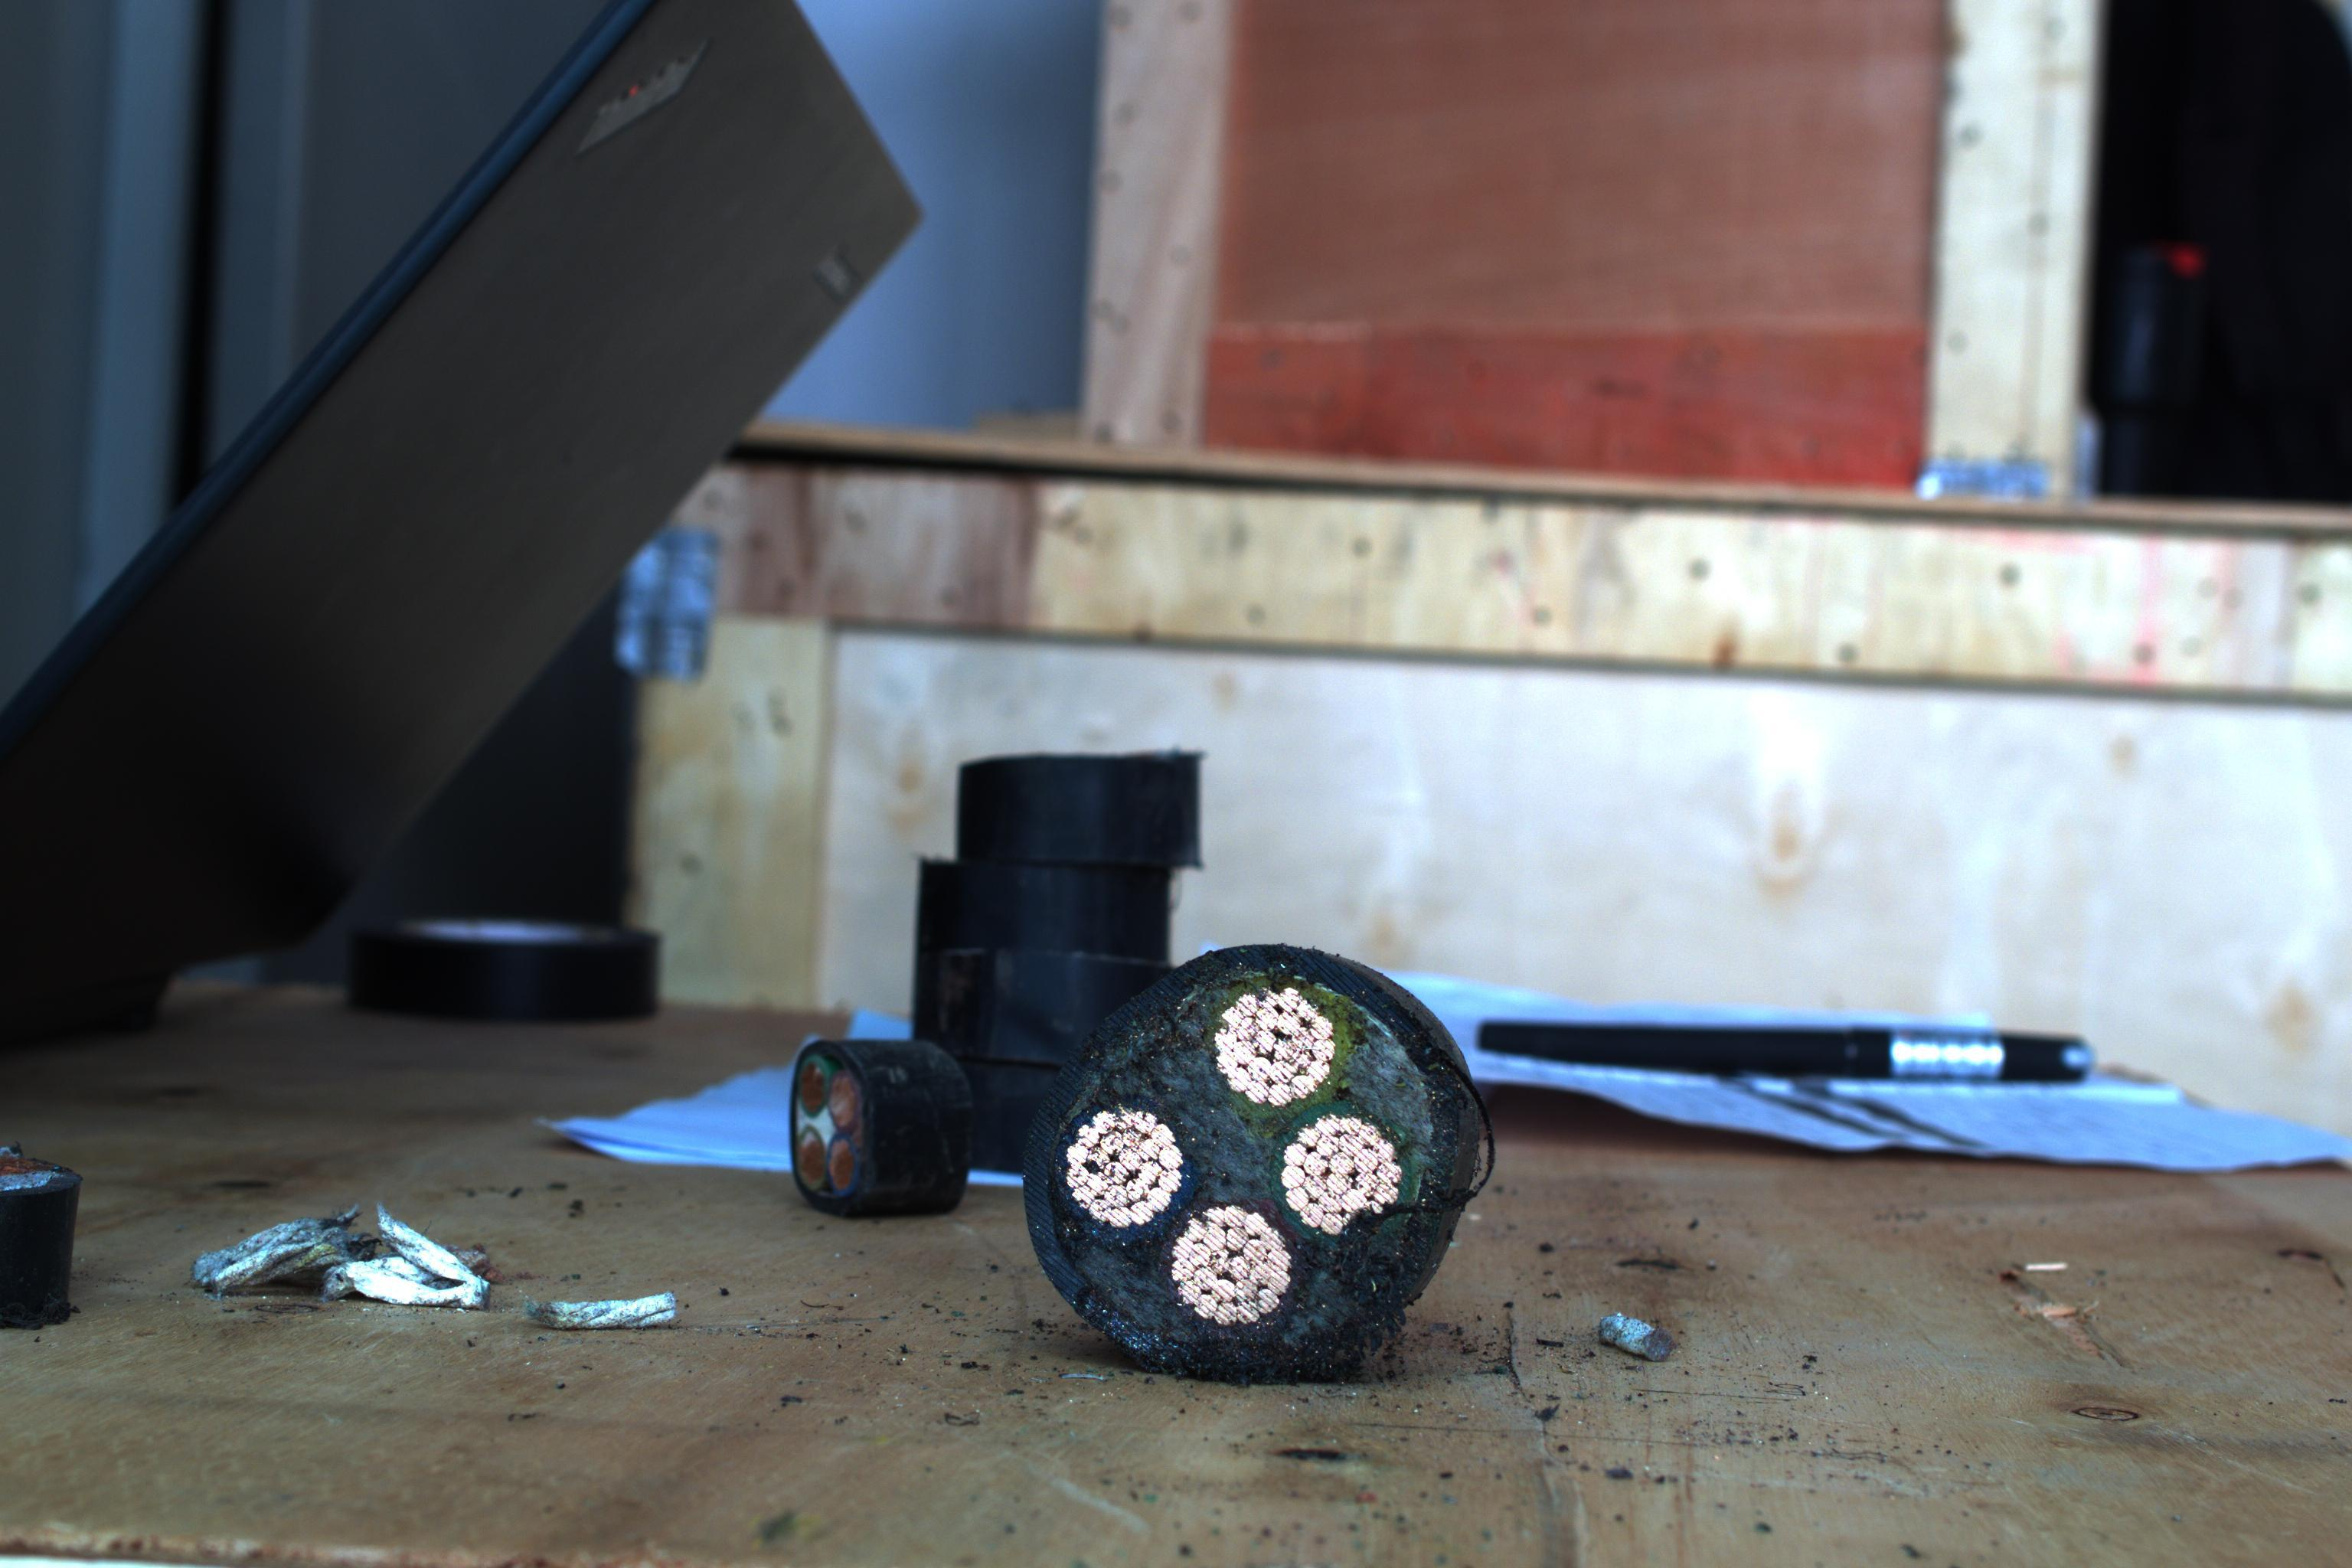YJV_0.6_1kV_4x120: (1017, 938, 1470, 1370)
